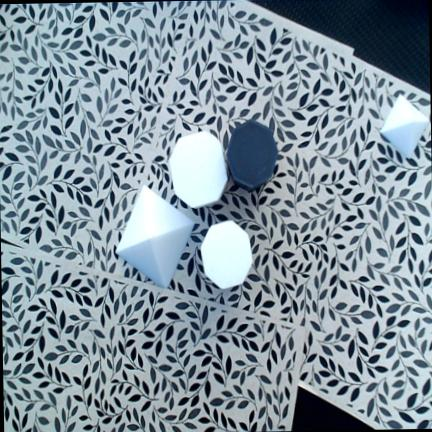Piramide: (115, 184, 195, 289), (380, 93, 429, 158)
Prisma_hexagonal: (168, 130, 227, 207), (200, 219, 252, 289), (226, 121, 278, 190)
